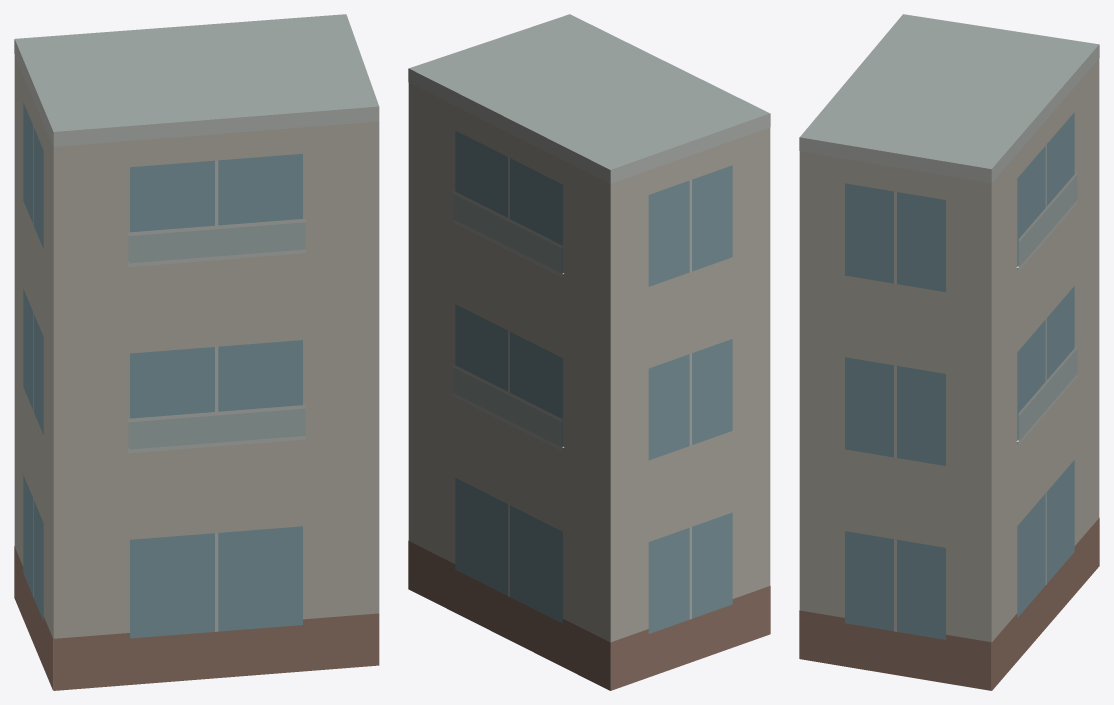
Rendered from survey-upis-32469695.glb.
The picture shows the model from 3 angles, left to right: view 1: azimuth 30°, elevation 25°; view 2: azimuth 150°, elevation 25°; view 3: azimuth 270°, elevation 25°; orthographic projection. The views are drawn at different scales.
Parts seen in each view (by area): view 1: survey-upis-32469695.tmp; view 2: survey-upis-32469695.tmp; view 3: survey-upis-32469695.tmp.
Boxes of the visible parts, box(x1,y1,x2,y2) form: survey-upis-32469695.tmp: box(14, 14, 379, 690); survey-upis-32469695.tmp: box(408, 14, 770, 690); survey-upis-32469695.tmp: box(799, 14, 1099, 690).
Bounding box in the file's own units: 5.85 × 9.15 × 4.78.
